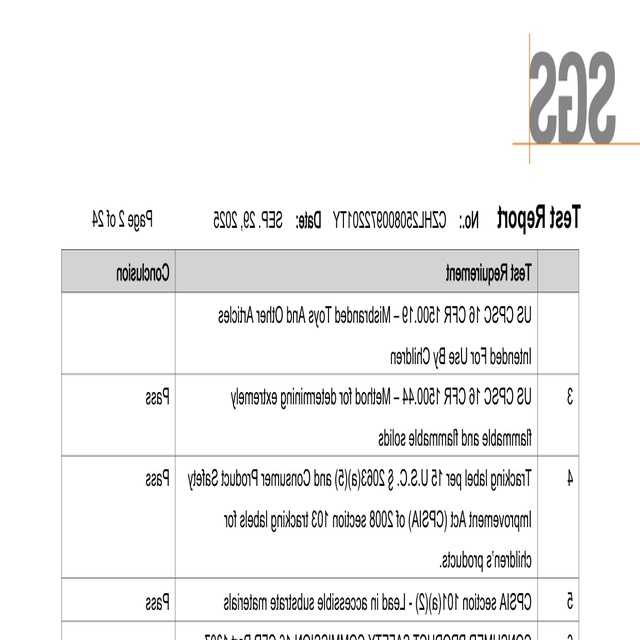sgs: (528, 52, 616, 143)
